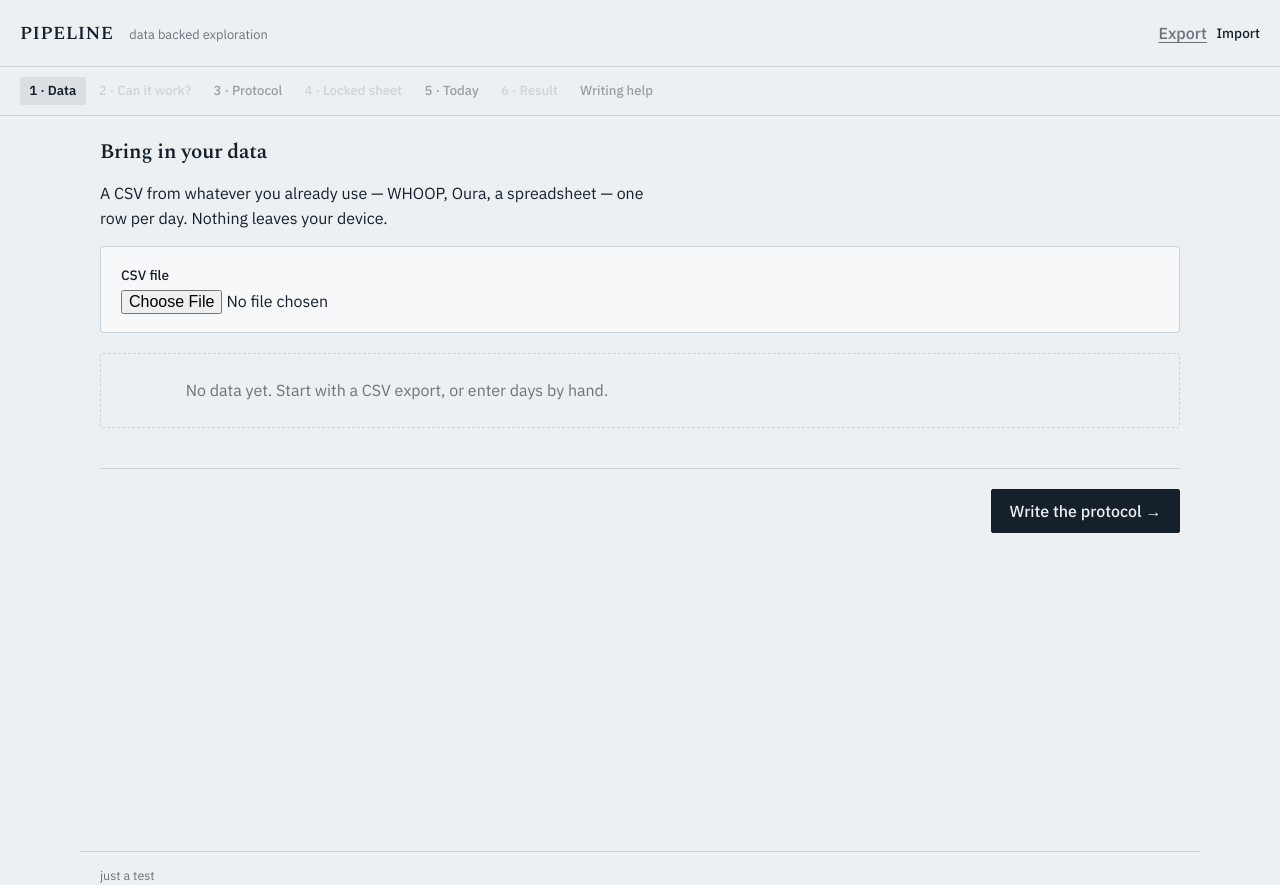
Test: moving between stages › labels the next button by where it goes, skipping stages you cannot use yet
Step 1. Click the button "Write the protocol →" → (1086, 511), box [991,489,1180,533]
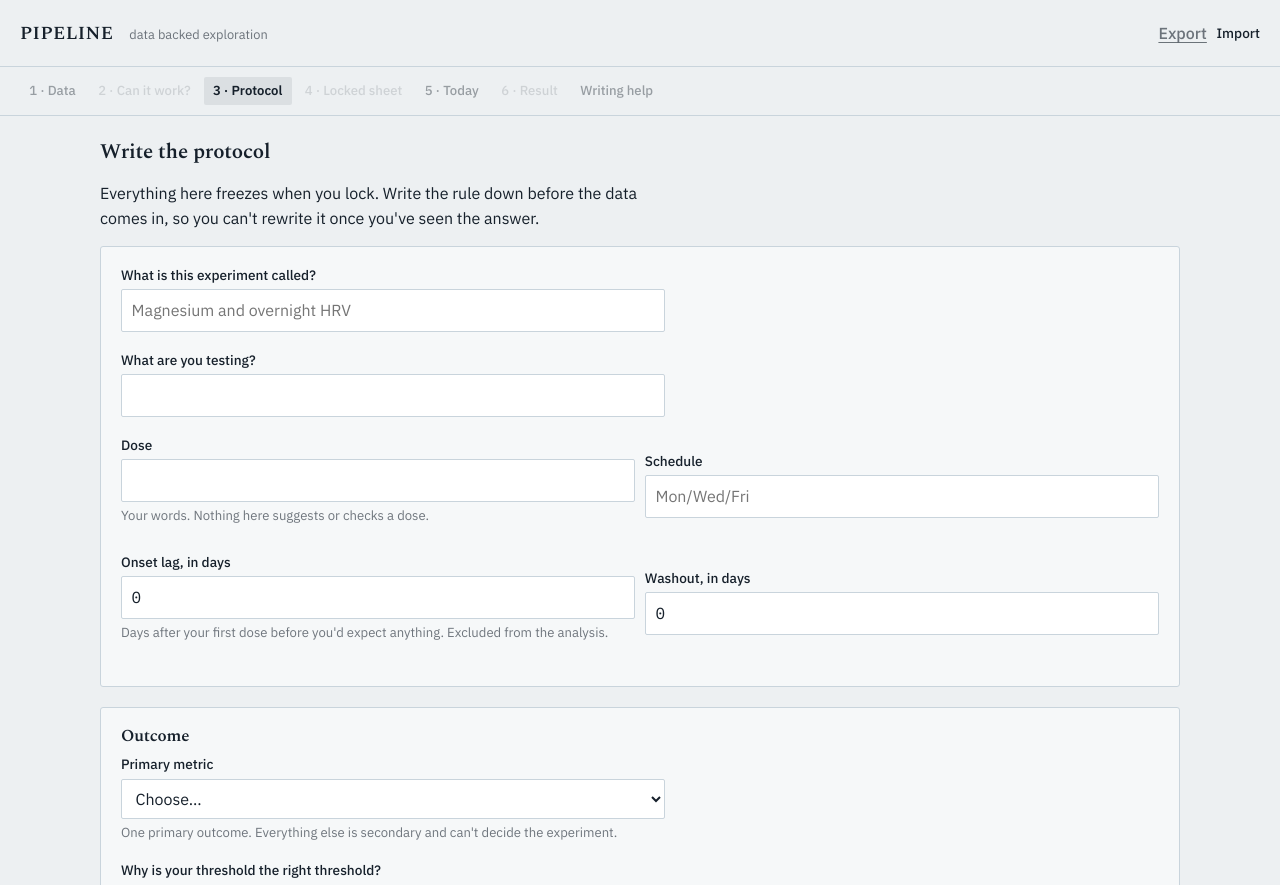
Check: the heading "Write the protocol" is shown, box [100,136,270,168]
